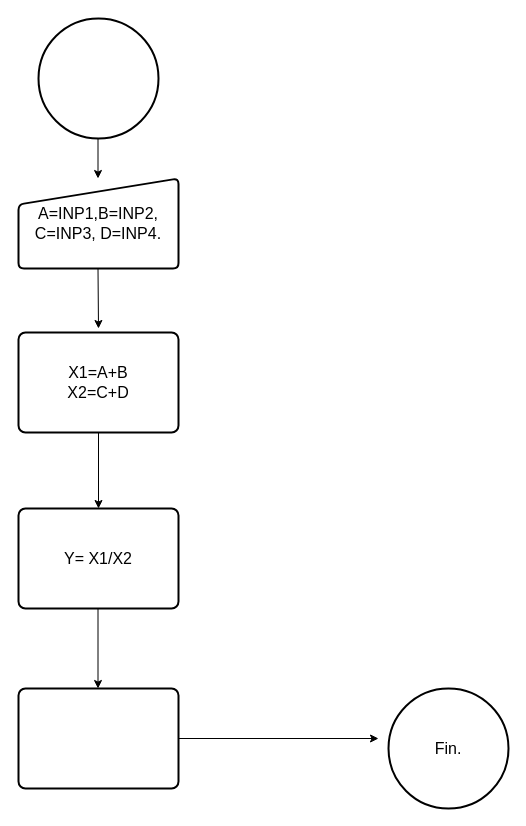
Image size: 526x826. Some labels were removed from this diagram. The centre of each missing label's shape, as x and y in pixels:
"Inicio" goes at point 98,78.
"Y." goes at point 98,738.
